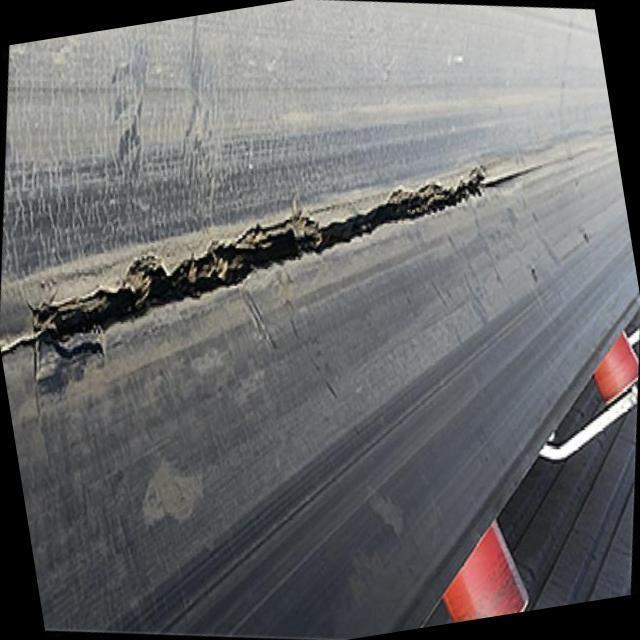Tear: (0, 159, 545, 377)
